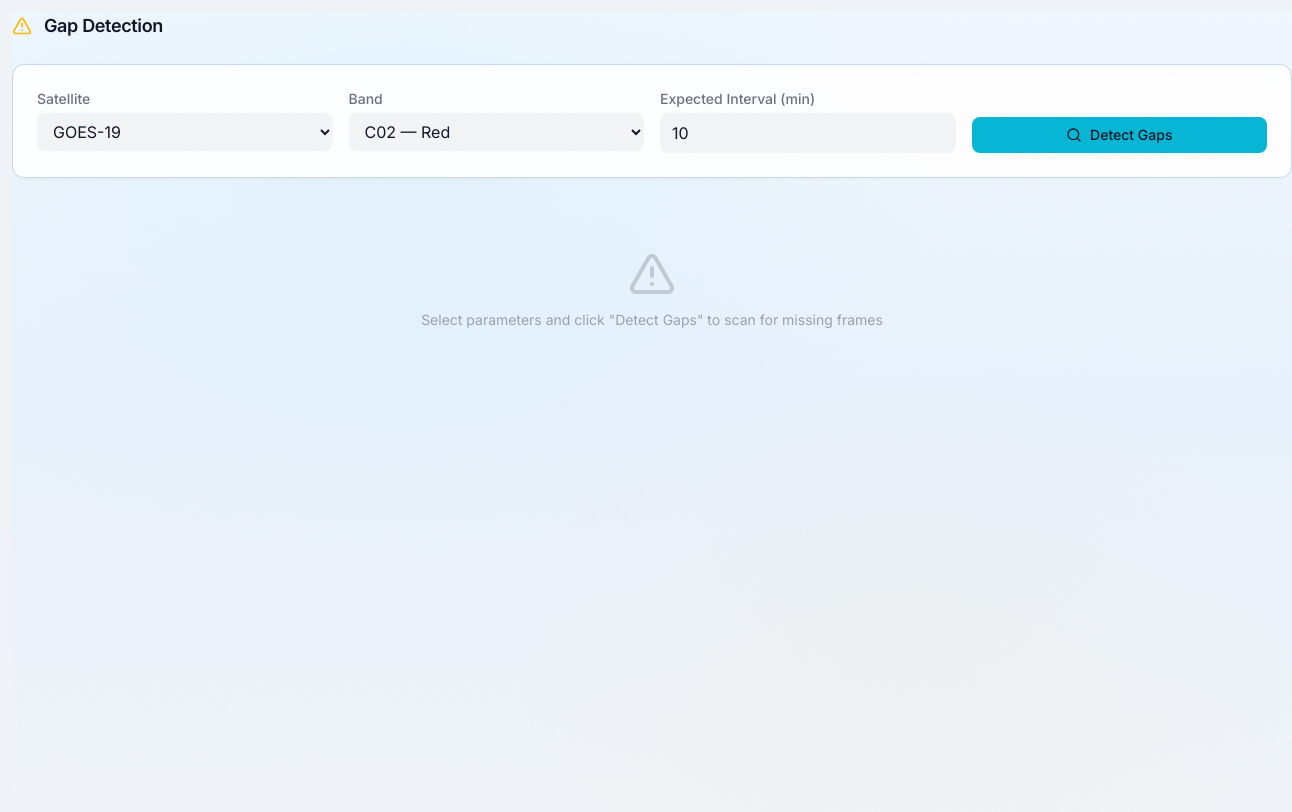
Test: GapsTab › backfill button shows confirmation dialog
The image size is (1292, 812).
Click the button "Detect Gaps".
click(1119, 135)  # box x1=972 y1=117 x2=1267 y2=153
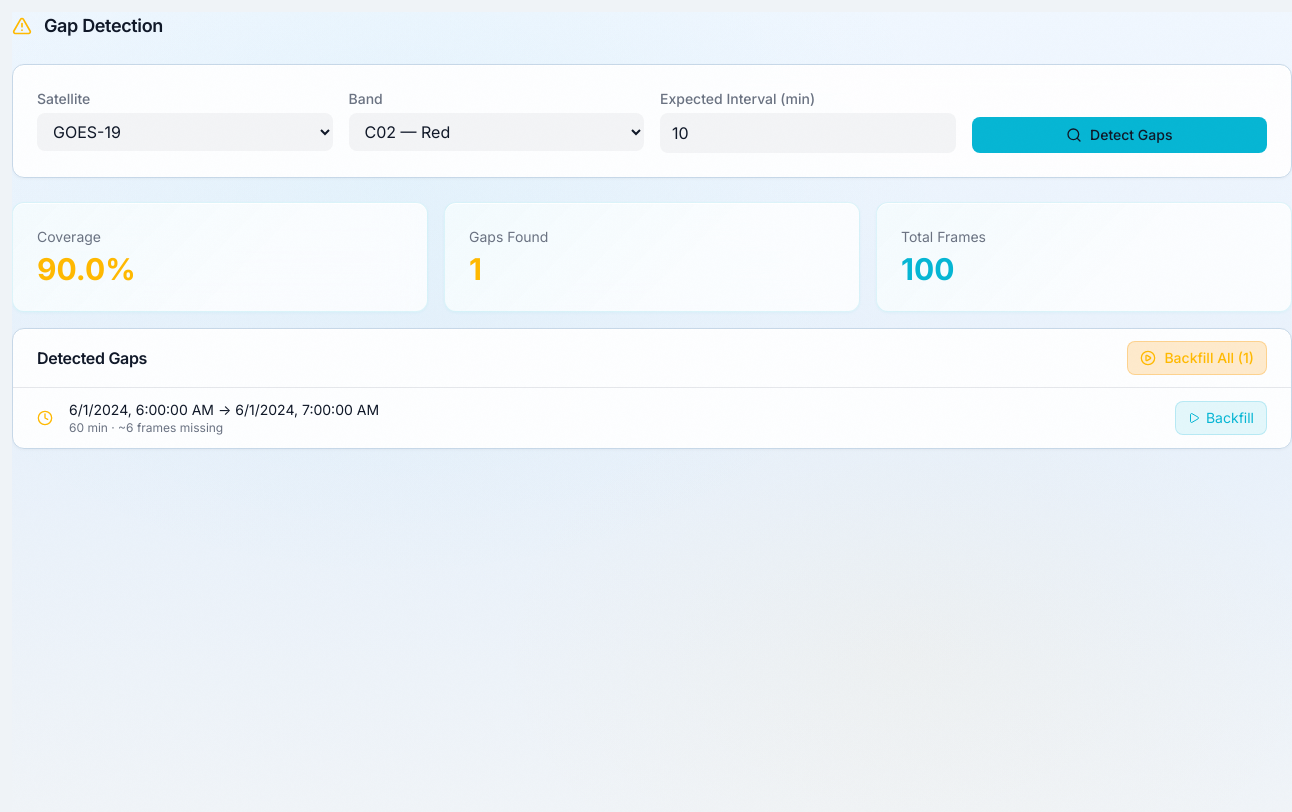
Check: the button "Backfill All (1)" is shown
Click the button "Backfill All (1)".
click(1197, 358)  # box x1=1127 y1=341 x2=1267 y2=375
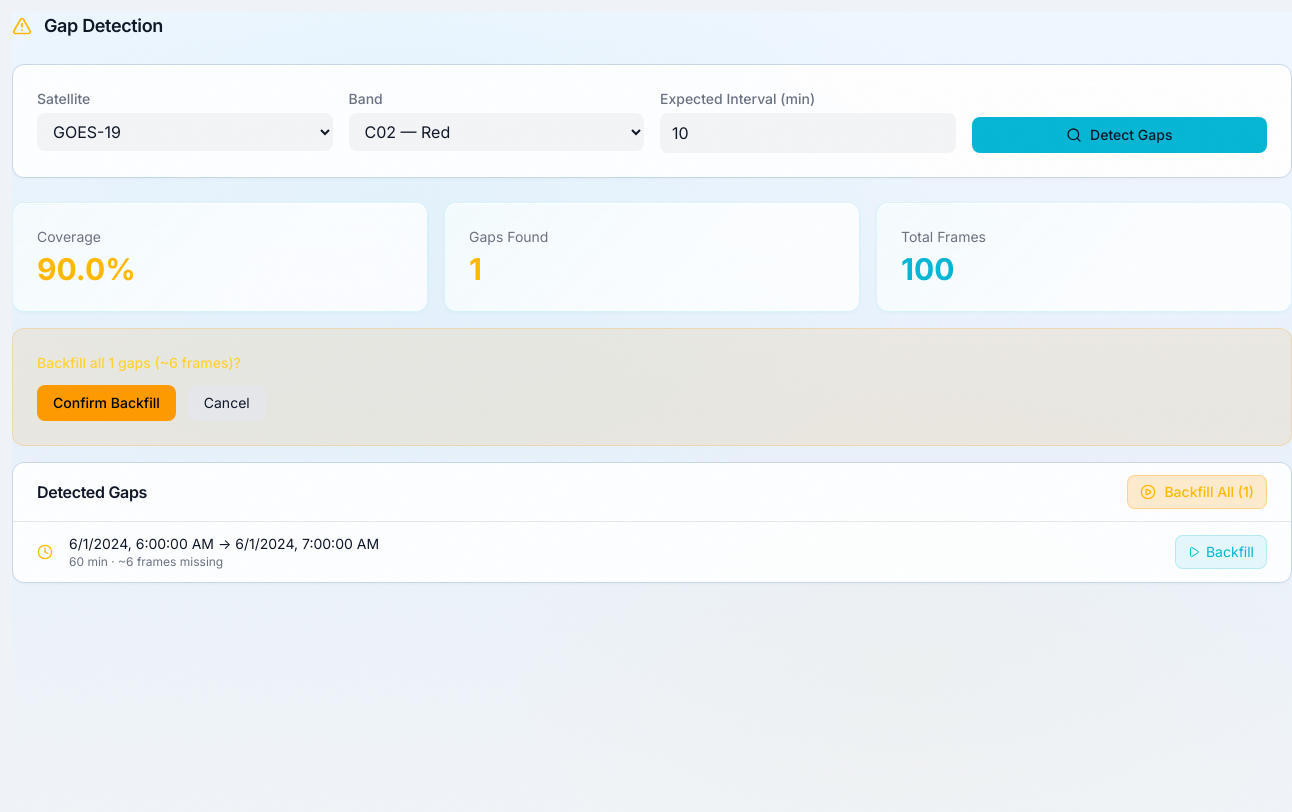
Check: the button "Confirm Backfill" is shown, box x1=37 y1=385 x2=176 y2=421
